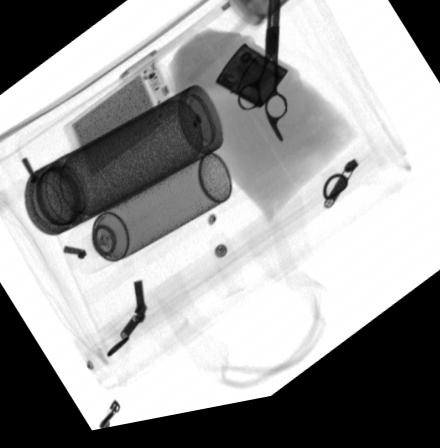Lighter: (212, 48, 291, 123)
Powerbank: (58, 61, 185, 189)
Scissors: (235, 0, 290, 155)
Sprayer: (61, 161, 233, 281)
